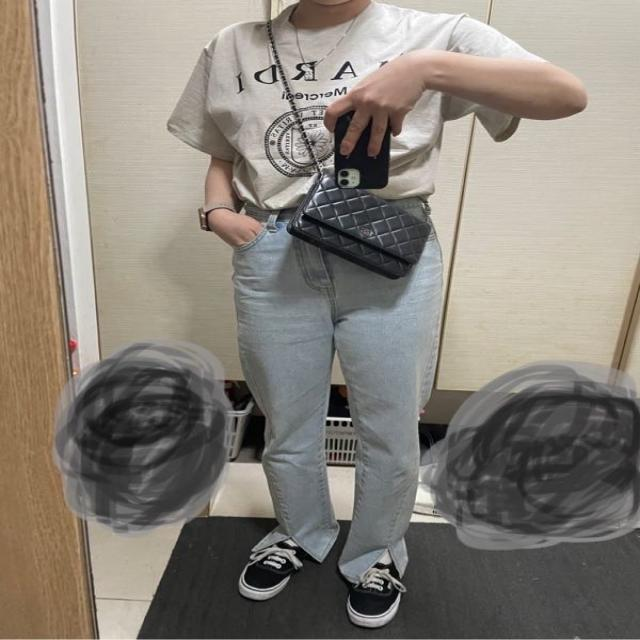denimpants: (235, 207, 444, 578)
shortsleeve: (168, 0, 537, 209)
